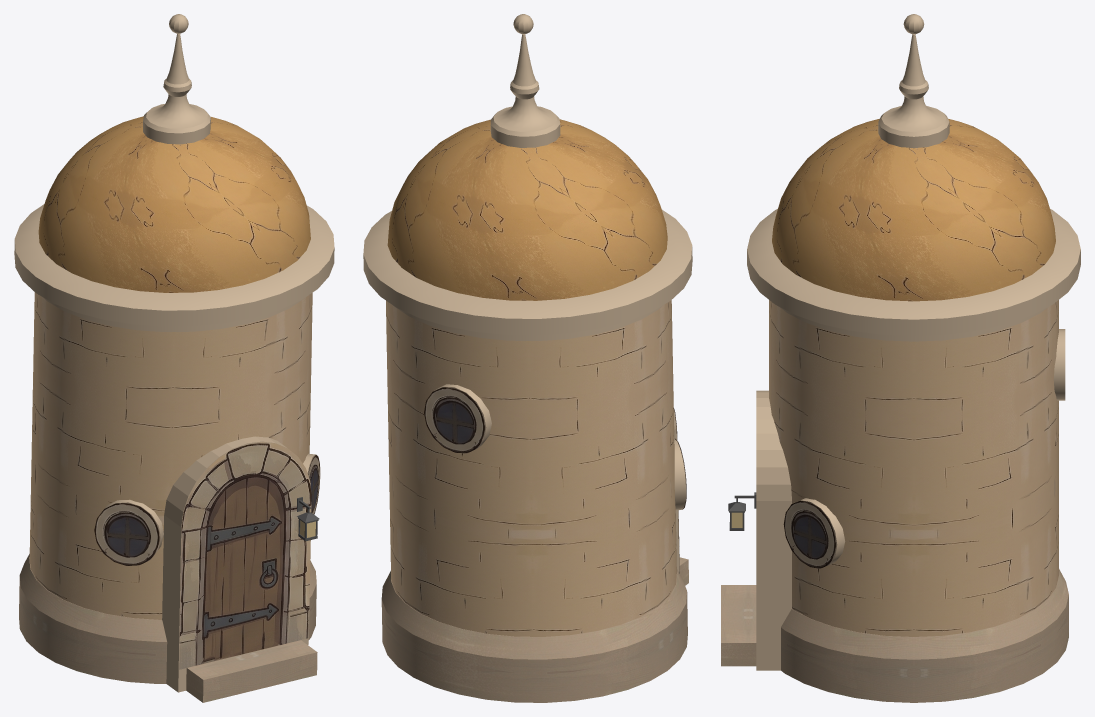
The model's file is sanctum.glb.
3 renders of one model, left to right at view 1: azimuth 30°, elevation 25°; view 2: azimuth 150°, elevation 25°; view 3: azimuth 270°, elevation 25°, orthographic. The views are drawn at different scales.
Visible parts, largest first — view 1: body, glass; view 2: body, glass; view 3: body, glass.
Part boxes in pixels (x1,y1,x2,y2): body: [14, 14, 334, 702]; glass: [103, 464, 318, 557]; body: [363, 14, 692, 702]; glass: [432, 396, 476, 444]; body: [721, 14, 1080, 702]; glass: [731, 510, 828, 559].
Size of the model in its own units: 5.24 by 10.87 by 5.64.
9 materials, 6 textured.
